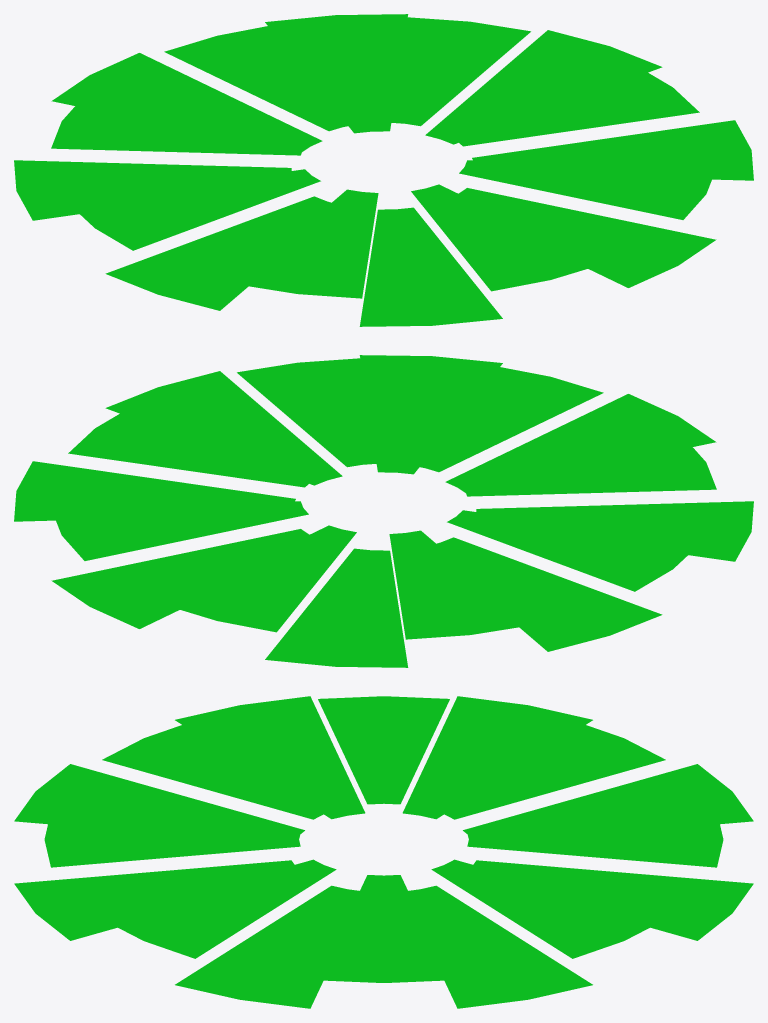
The picture shows the model from 3 angles, top to bottom: view 1: azimuth 30°, elevation 25°; view 2: azimuth 150°, elevation 25°; view 3: azimuth 270°, elevation 25°; orthographic projection.
Parts seen in each view (by area): view 1: Circle, Circle.001; view 2: Circle, Circle.001; view 3: Circle, Circle.001.
Boxes of the visible parts, x1,y1,x2,y2 form: Circle: [14, 14, 753, 326]; Circle.001: [51, 17, 716, 298]; Circle: [14, 355, 753, 667]; Circle.001: [51, 358, 716, 639]; Circle: [14, 696, 753, 1008]; Circle.001: [44, 696, 723, 982].
Size of the model in its own units: 1569 by 30 by 1569.
